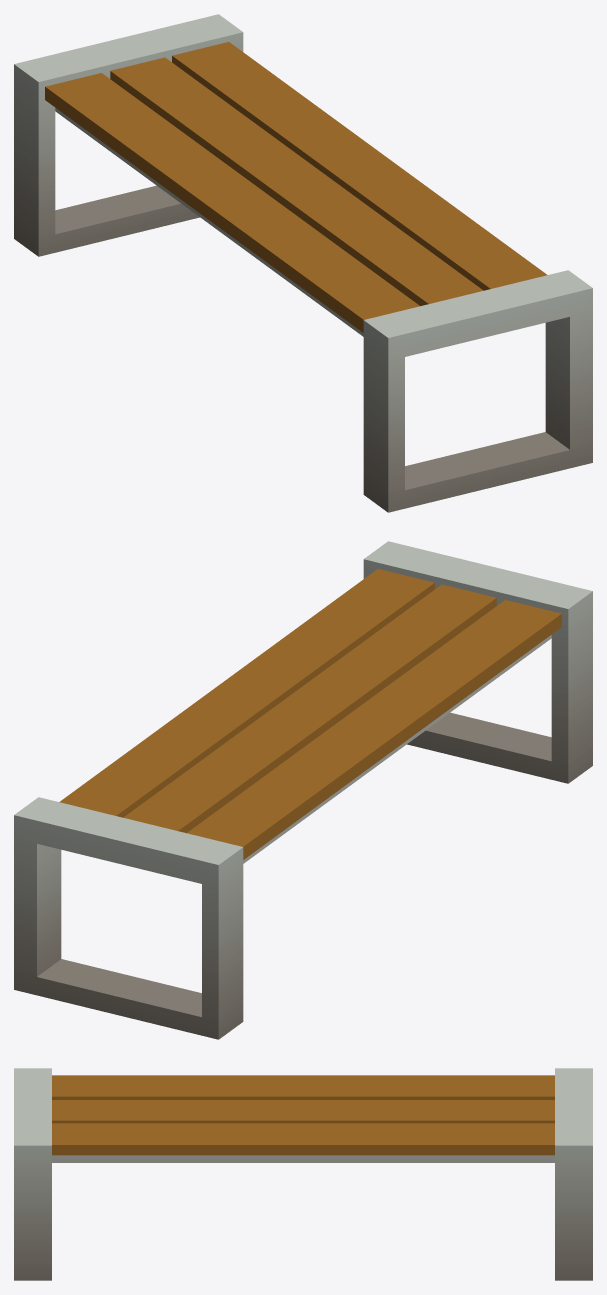
Rendered from Bench_4_A.fbx.
The picture shows the model from 3 angles, top to bottom: view 1: azimuth 30°, elevation 25°; view 2: azimuth 150°, elevation 25°; view 3: azimuth 270°, elevation 25°; orthographic projection. The views are drawn at different scales.
Parts seen in each view (by area): view 1: Bench_4_A; view 2: Bench_4_A; view 3: Bench_4_A.
Part boxes in pixels (x1=…): Bench_4_A: x1=14, y1=14, x2=592, y2=512; Bench_4_A: x1=14, y1=541, x2=592, y2=1039; Bench_4_A: x1=14, y1=1068, x2=592, y2=1280.
Bounding box in the file's own units: 61.18 × 49.88 × 194.
